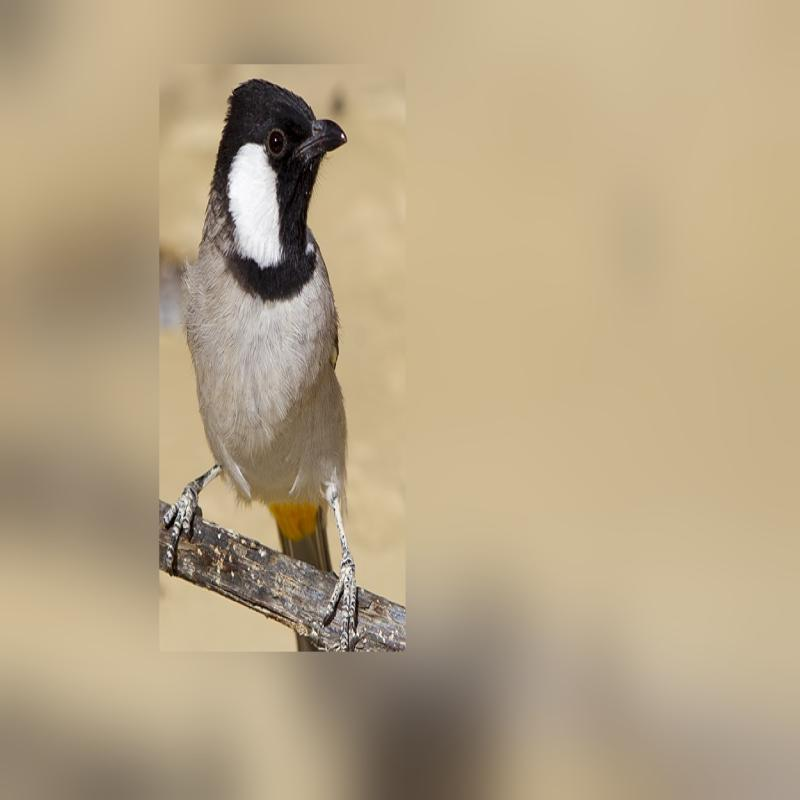white-eared bulbul: (161, 65, 388, 638)
